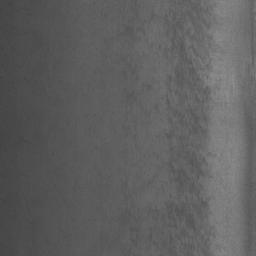Silk spot: (110, 0, 223, 256), (116, 52, 152, 147)
